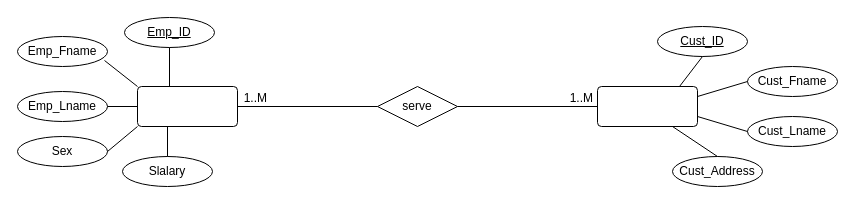
The diagram is 855 pixels wide and 204 high, and some of its shapes have lost their labels. Here are the shapes that lost their labels. From the top down, the centre of each, then its label:
(x=187, y=106): Employee
(x=647, y=106): Customer
